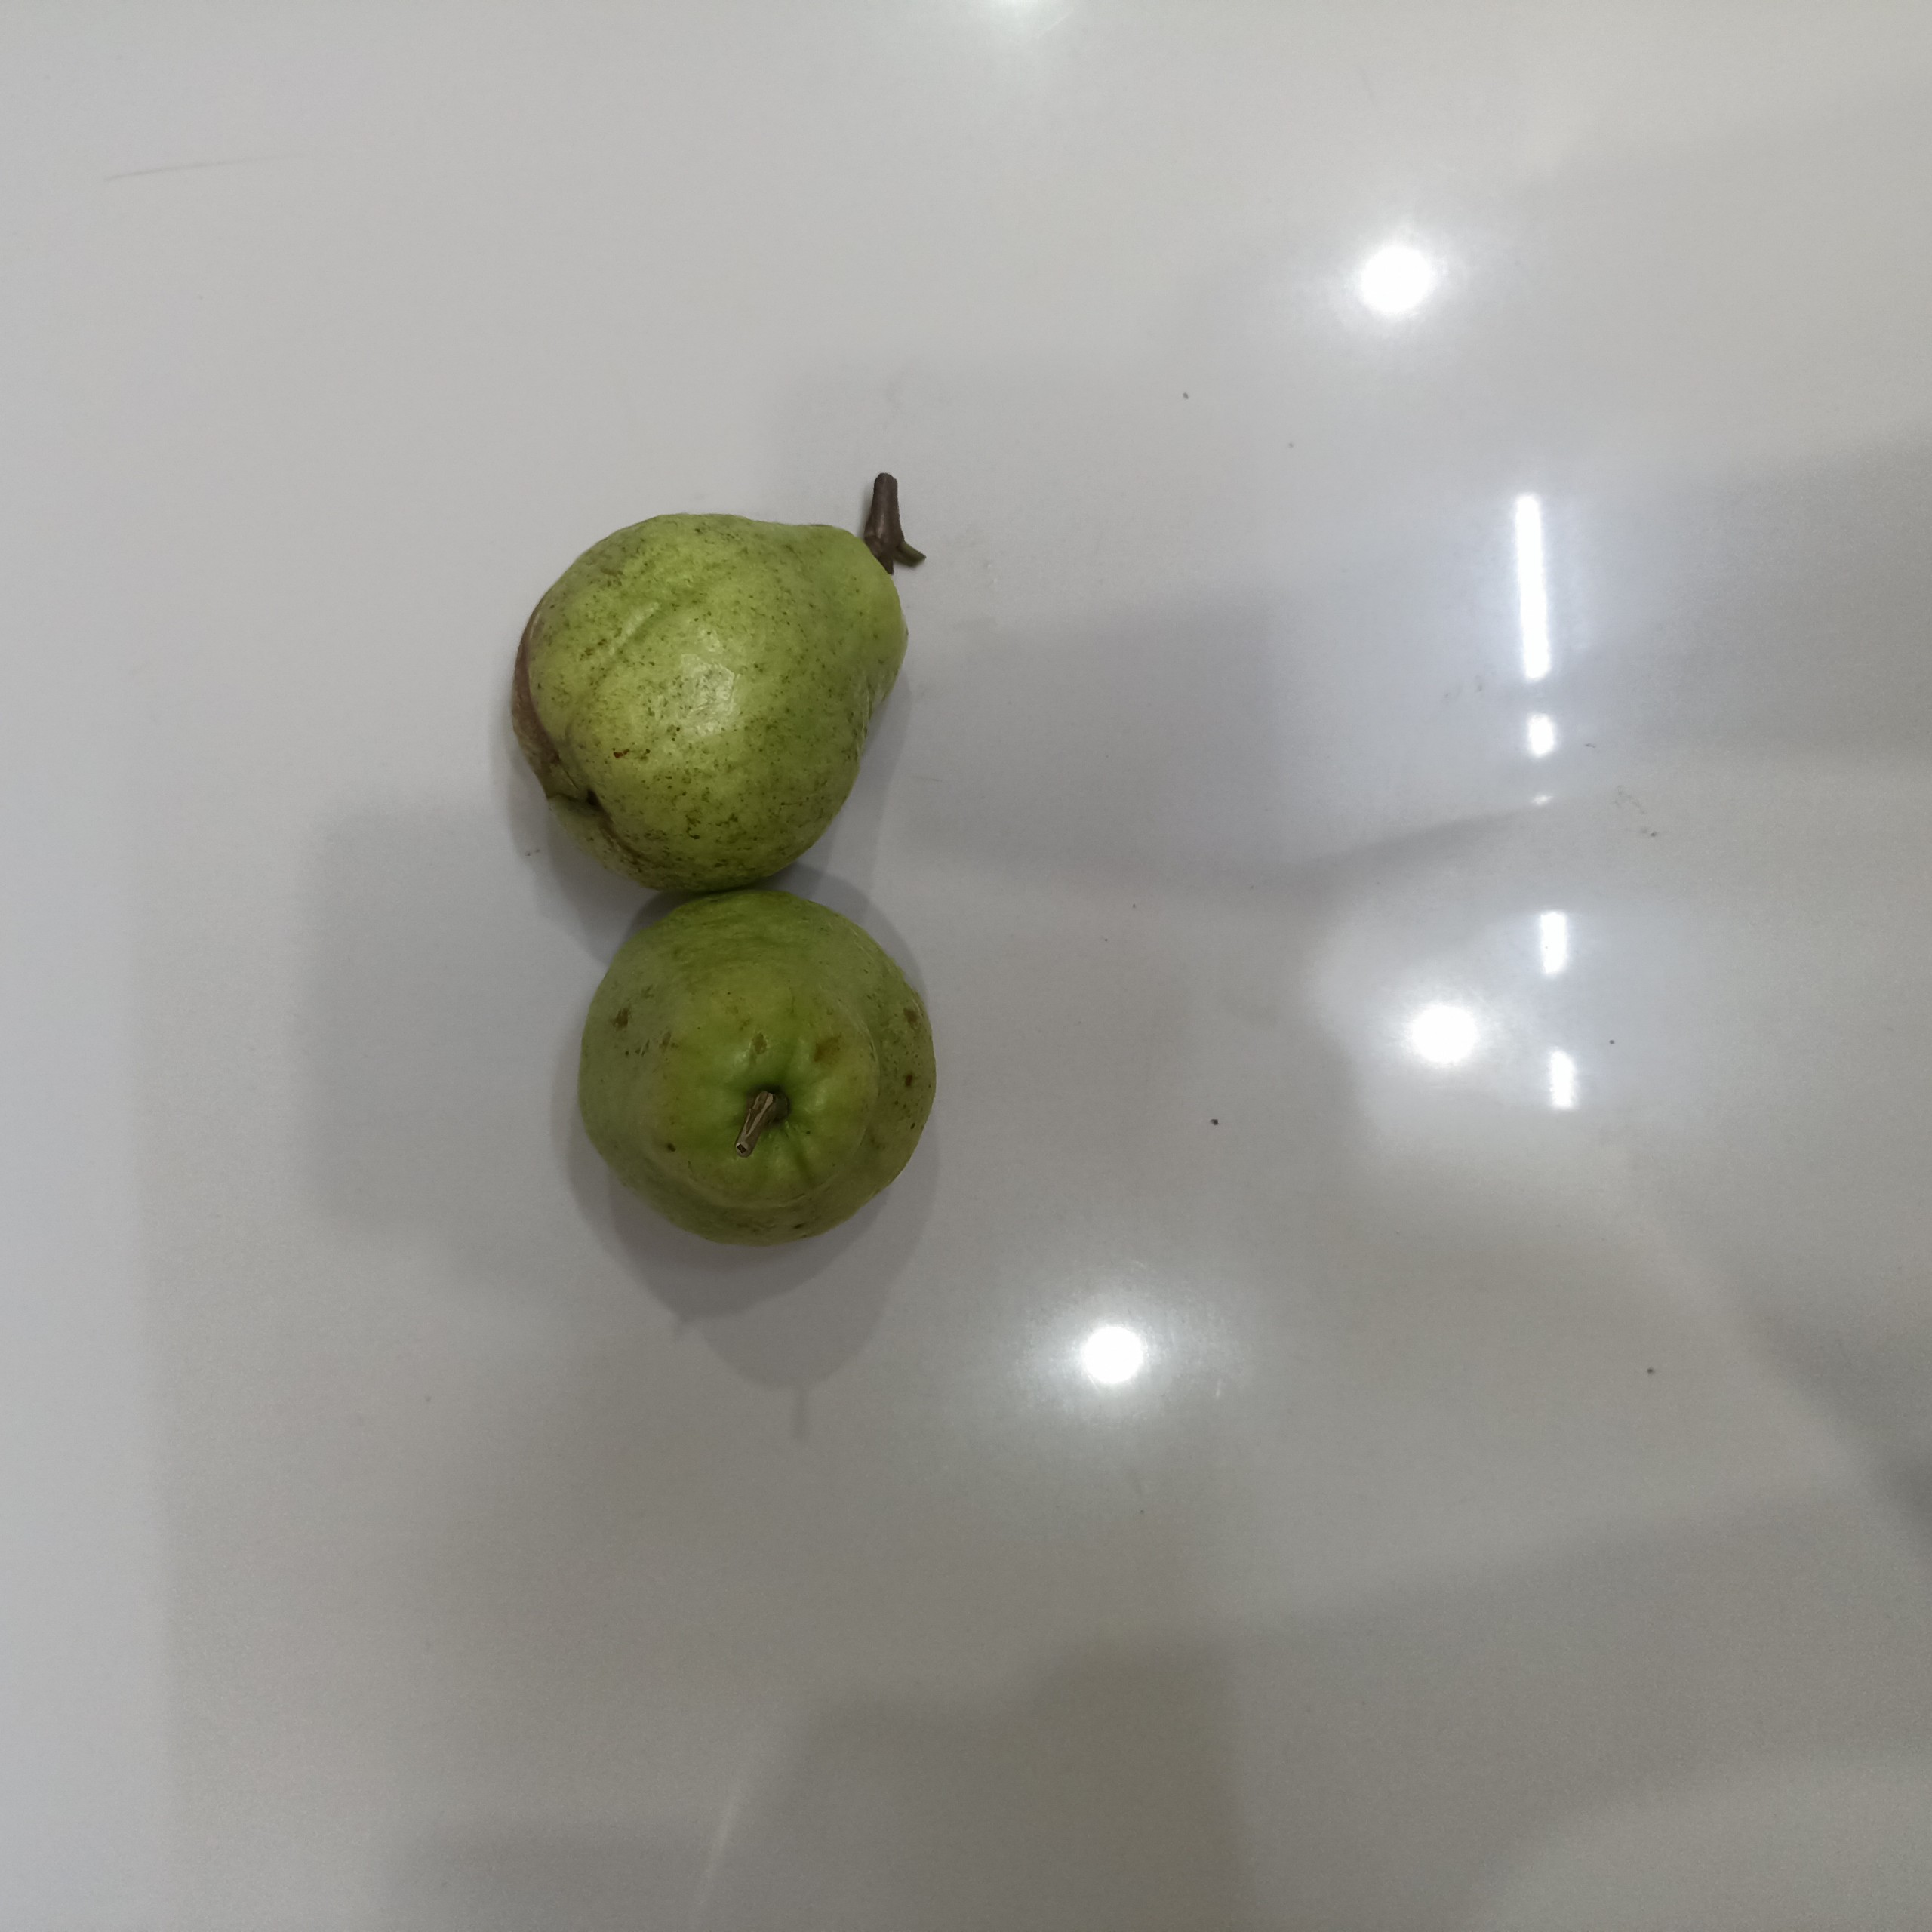Oi: (510, 502, 915, 891), (578, 889, 935, 1244)
